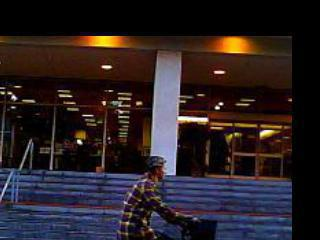Escaleras: (0, 163, 320, 215), (0, 195, 320, 240)
